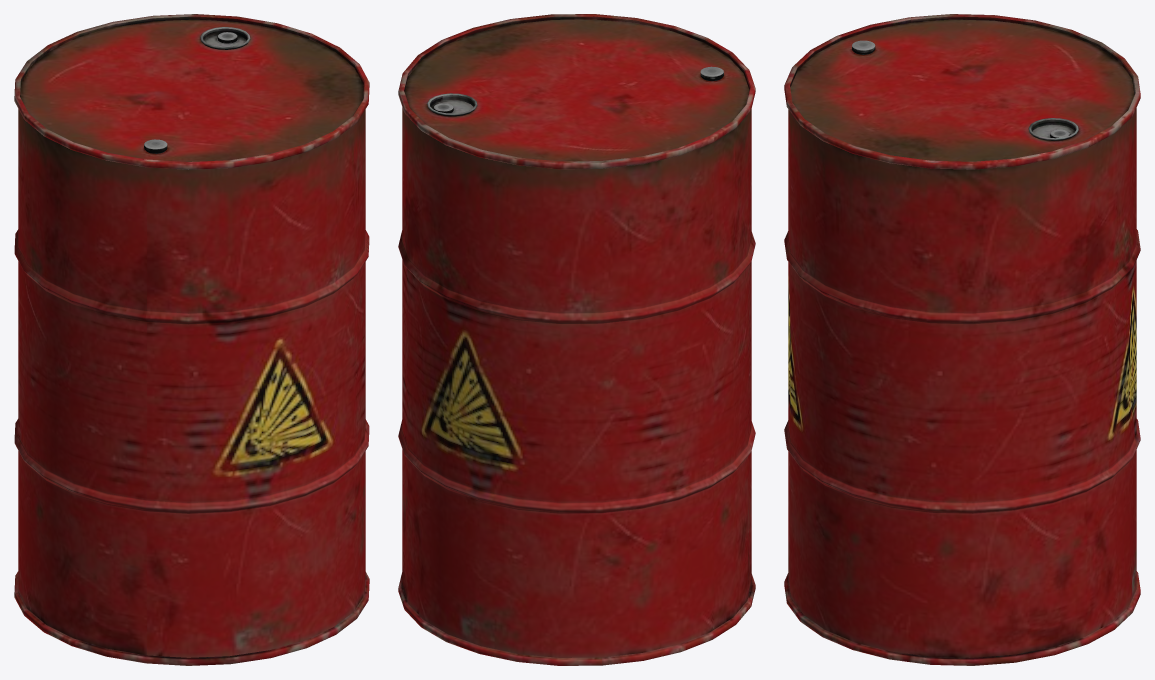
Rendered from barrel.glb.
The picture shows the model from 3 angles, left to right: view 1: azimuth 30°, elevation 25°; view 2: azimuth 150°, elevation 25°; view 3: azimuth 270°, elevation 25°; orthographic projection.
Visible parts, largest first — view 1: Barrel_01; view 2: Barrel_01; view 3: Barrel_01.
Part boxes in pixels (box(x1,y1,x2,y2)): Barrel_01: box(14, 14, 369, 665); Barrel_01: box(398, 14, 755, 665); Barrel_01: box(784, 14, 1140, 665).
Bounding box in the file's own units: 0.563 × 0.88 × 0.563.
1 material, 1 textured.
